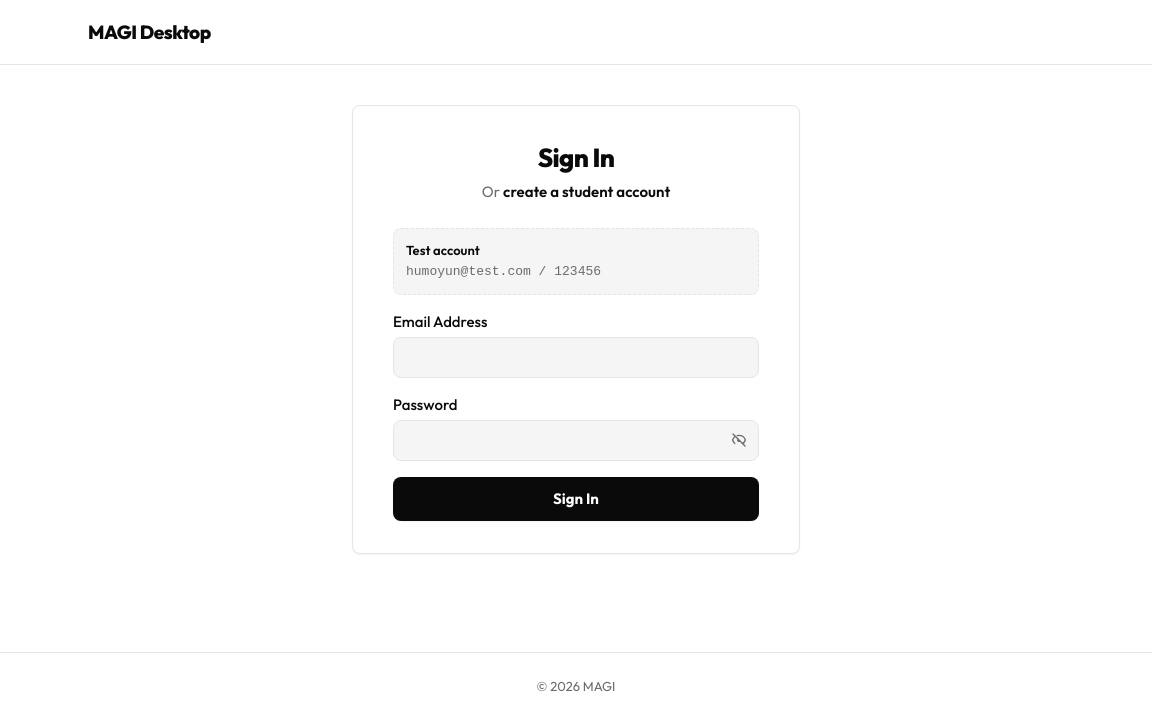
Test case: App navigation › offers Exams and Grades only while signed in
Expected: the heading "Sign In" is shown, [538,141,614,174]
Expected: the button "Grades" is not shown
Type "s@example.com" into the field labelled "Email Address" at (576, 357), box [393,337,759,378]
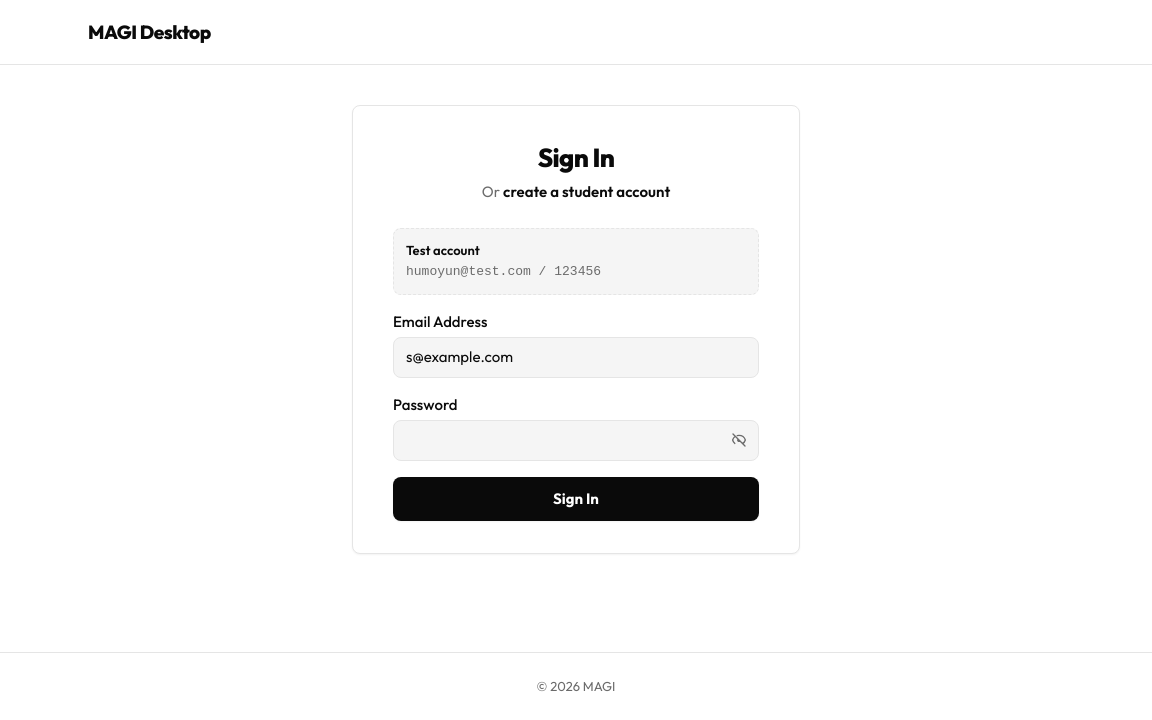
Type "Test1234!" into the password field labelled "Password" at (576, 440), box [393,420,759,460]
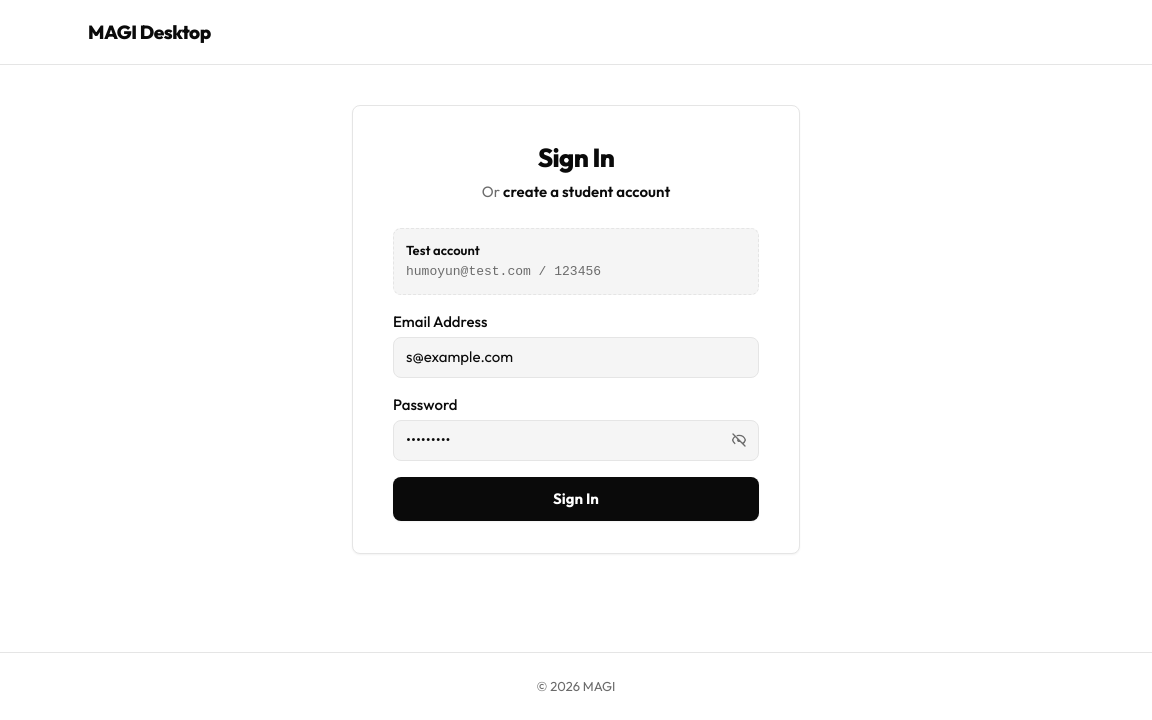
Click the button "Sign In" at (576, 499), box [393,476,759,521]
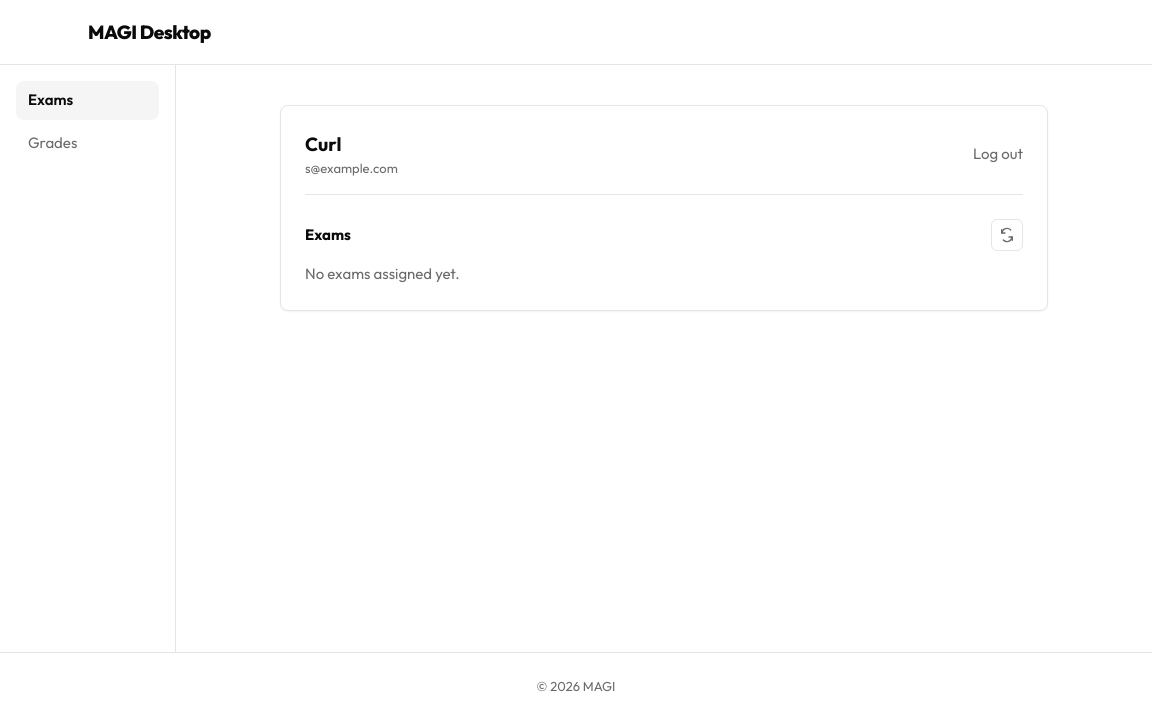
Result: the button "Grades" is shown at [16,124,159,162]
Result: the button "Exams" is shown at [16,81,159,120]
Click the button "Log out" at (998, 154), box [973,143,1023,165]
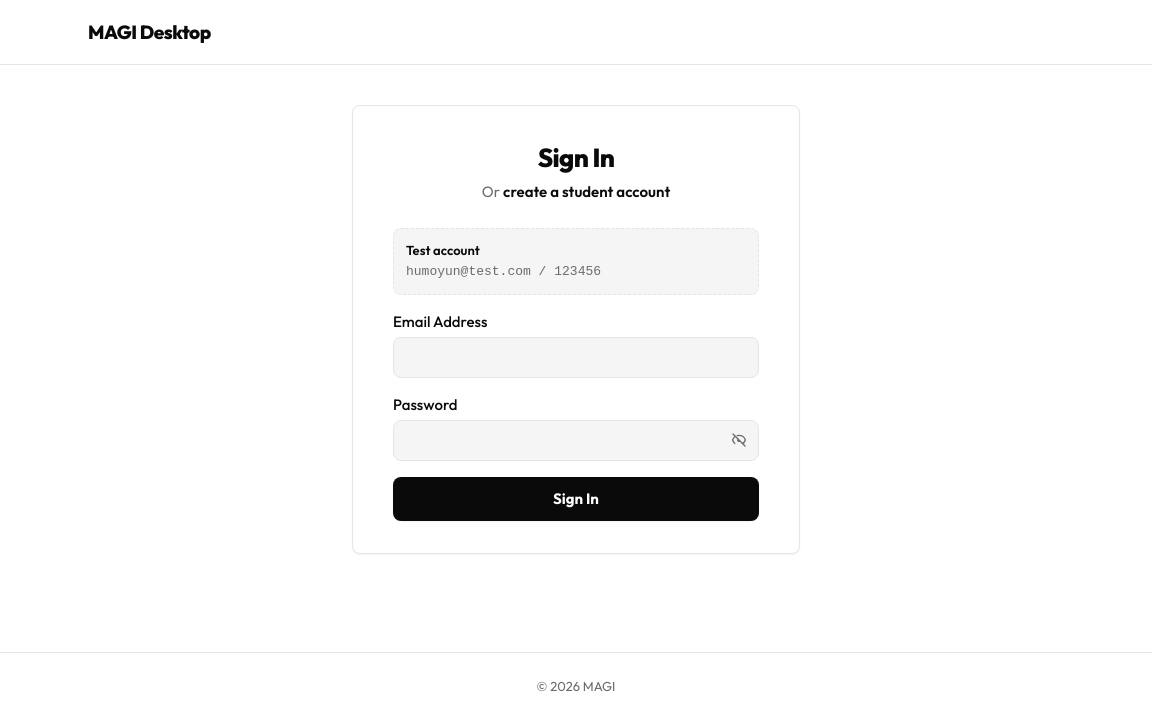
Result: the heading "Sign In" is shown at [538,141,614,174]
Result: the button "Grades" is gone
